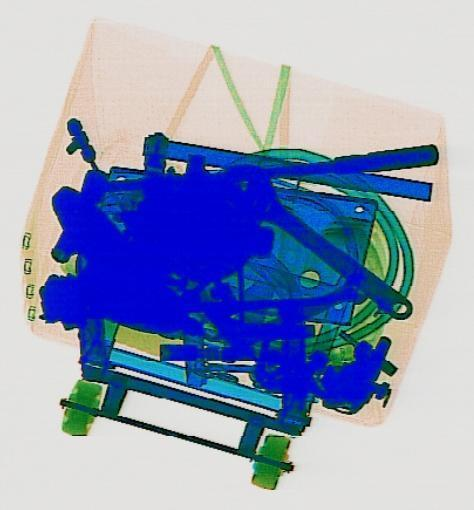Wrench: (205, 149, 426, 337)
